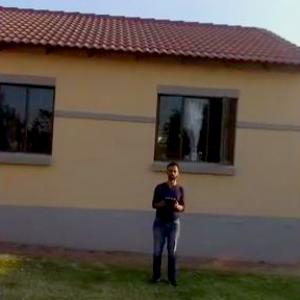follow: (142, 155, 186, 293)
